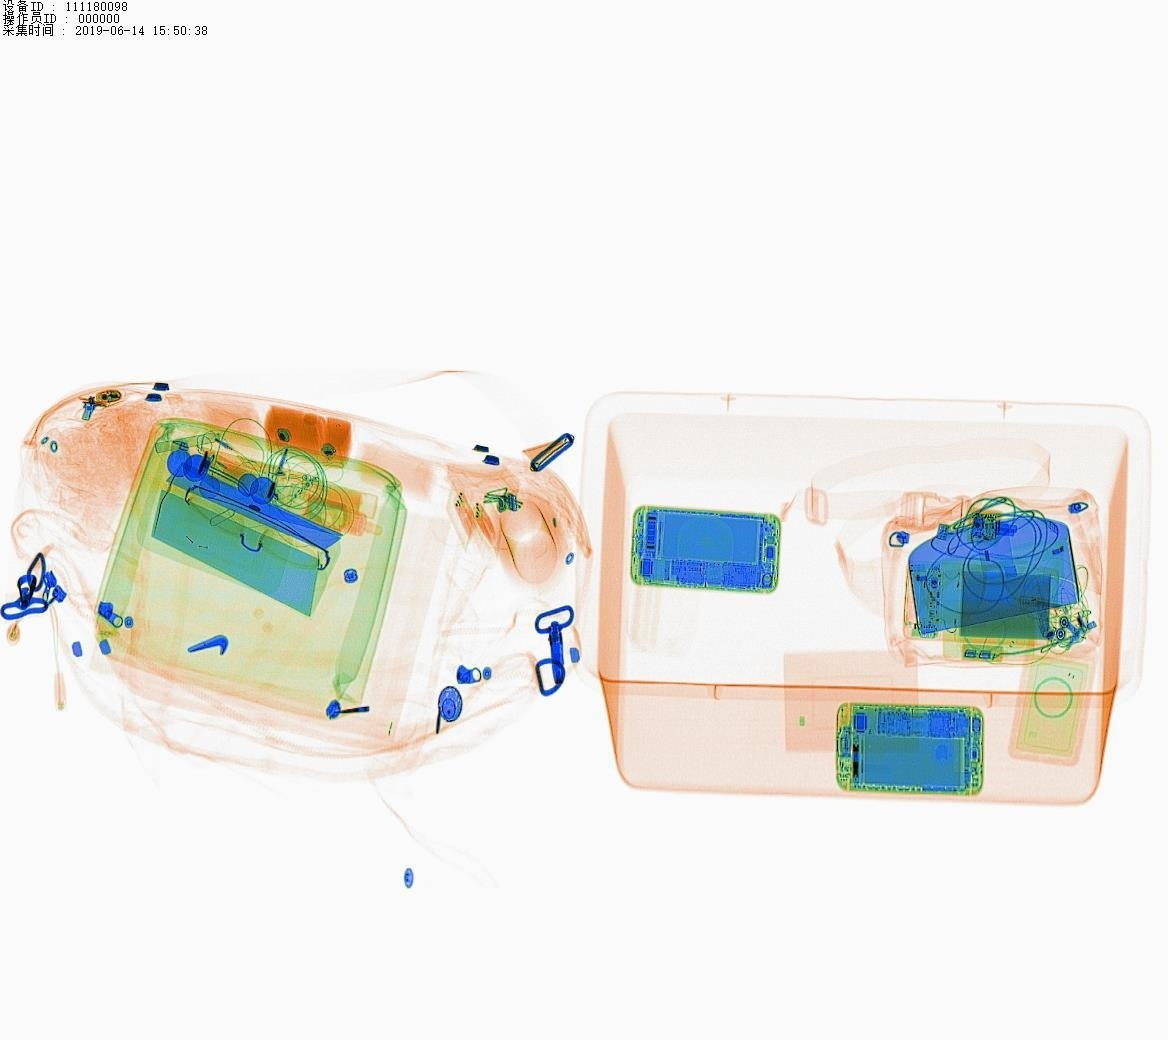NonmetallicFire: (92, 387, 141, 416)
